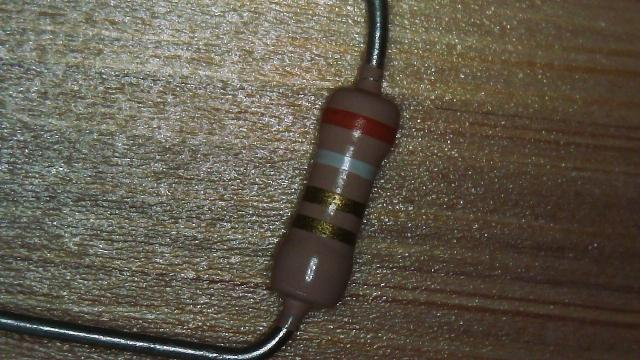gold: (292, 213, 356, 246), (307, 187, 365, 212)
orange: (320, 107, 398, 145)
resistor: (230, 47, 427, 330)
white: (314, 148, 376, 180)
